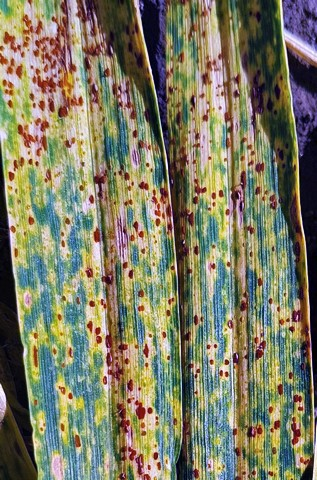Leaf Rust: (14, 23, 180, 479), (184, 29, 317, 473)
